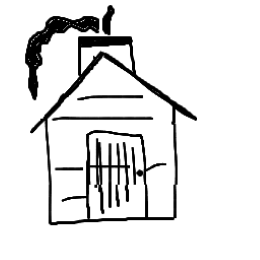door: (79, 126, 153, 226)
single_line_roof: (13, 49, 214, 134)
smoking_chimney: (17, 4, 162, 100)
wall: (41, 110, 181, 228)
